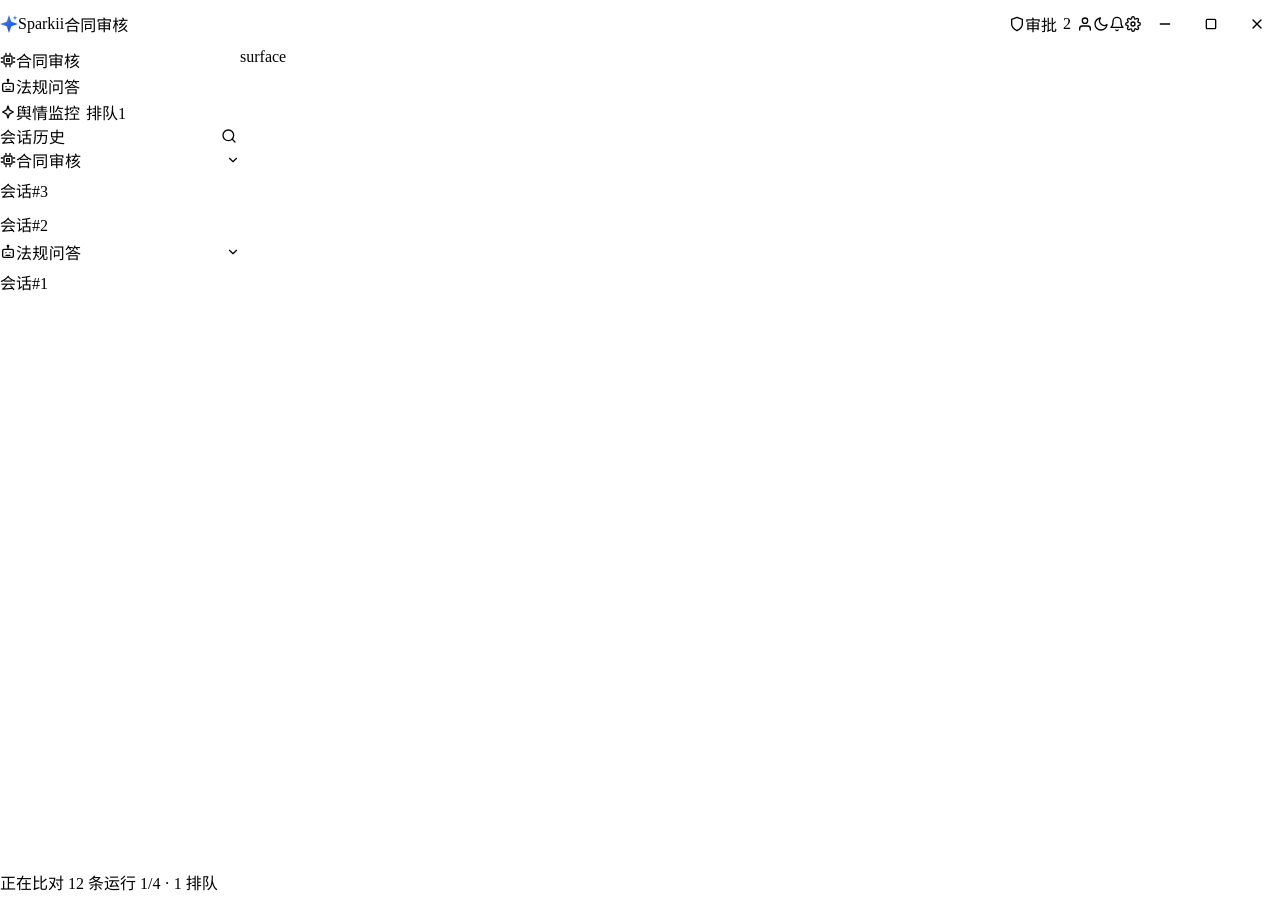
Shell › closes a drawer when clicking outside it
What coordinates should you click on to do the following:
click the button "运行 1/4 · 1 排队"
I would click on:
 (161, 882)
Its box is top-left (104, 870), bottom-right (218, 894).
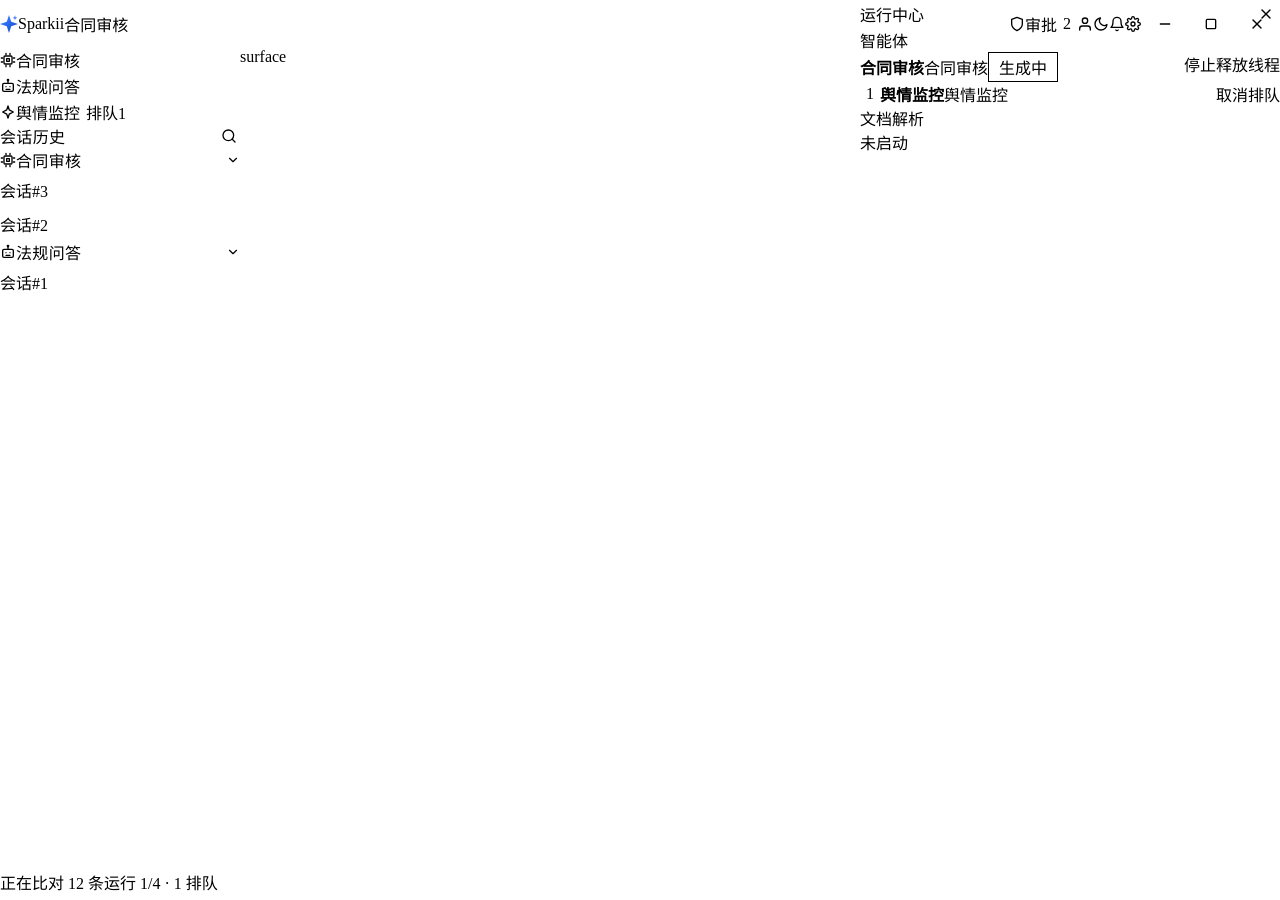
Expected: the text "运行中心" is shown, top-left (860, 2), bottom-right (924, 26)
What coordinates should you click on to do the following:
click the button with test id "drawer-backdrop"
I would click on:
 (640, 450)
Its box is top-left (0, 0), bottom-right (1279, 899).
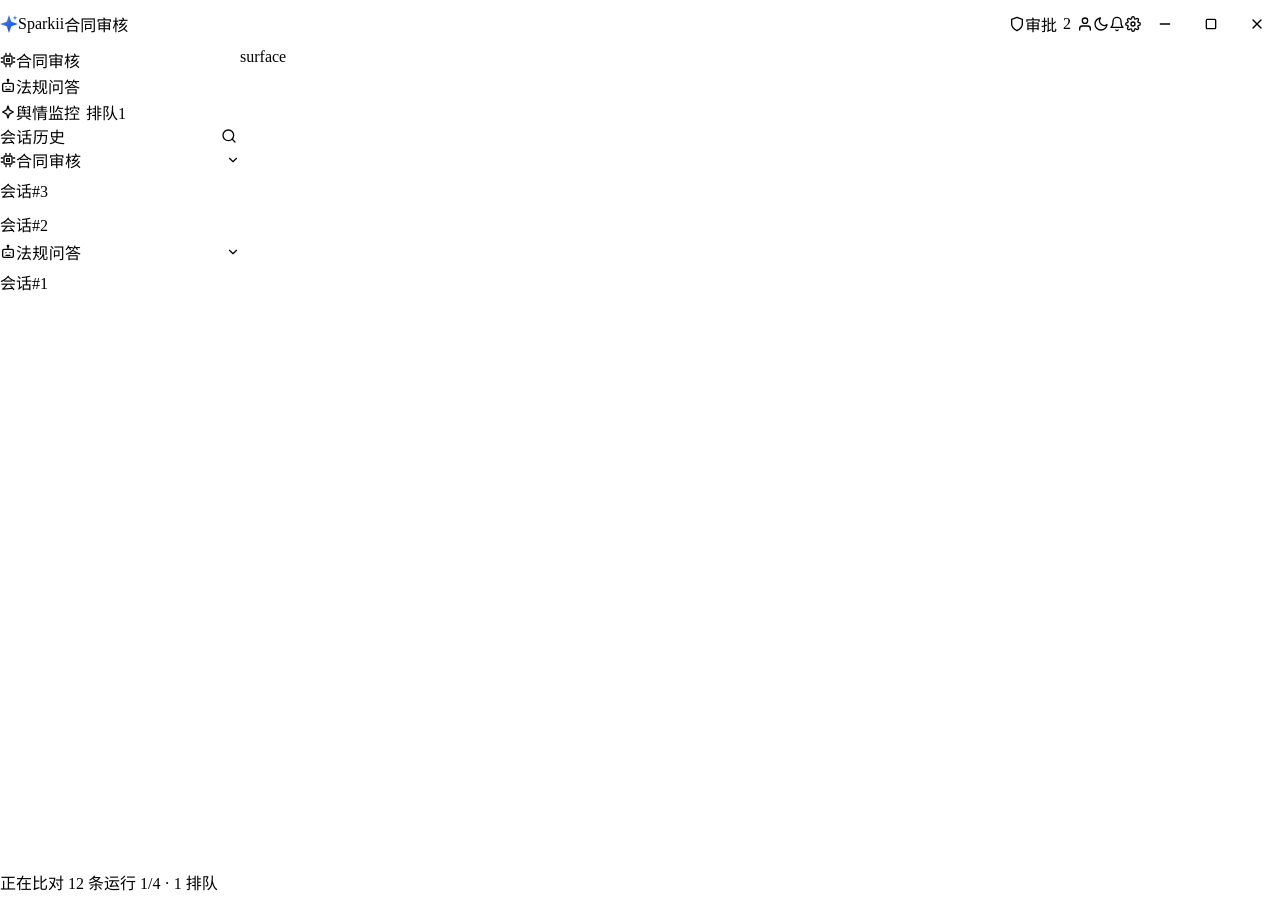
Expected: the text "运行中心" is gone
